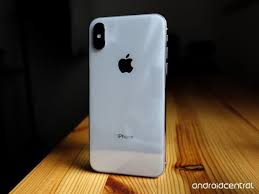iphone: (85, 13, 168, 177)
iphone10: (85, 13, 168, 177)
